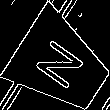N_SE: (31, 34, 91, 95)
